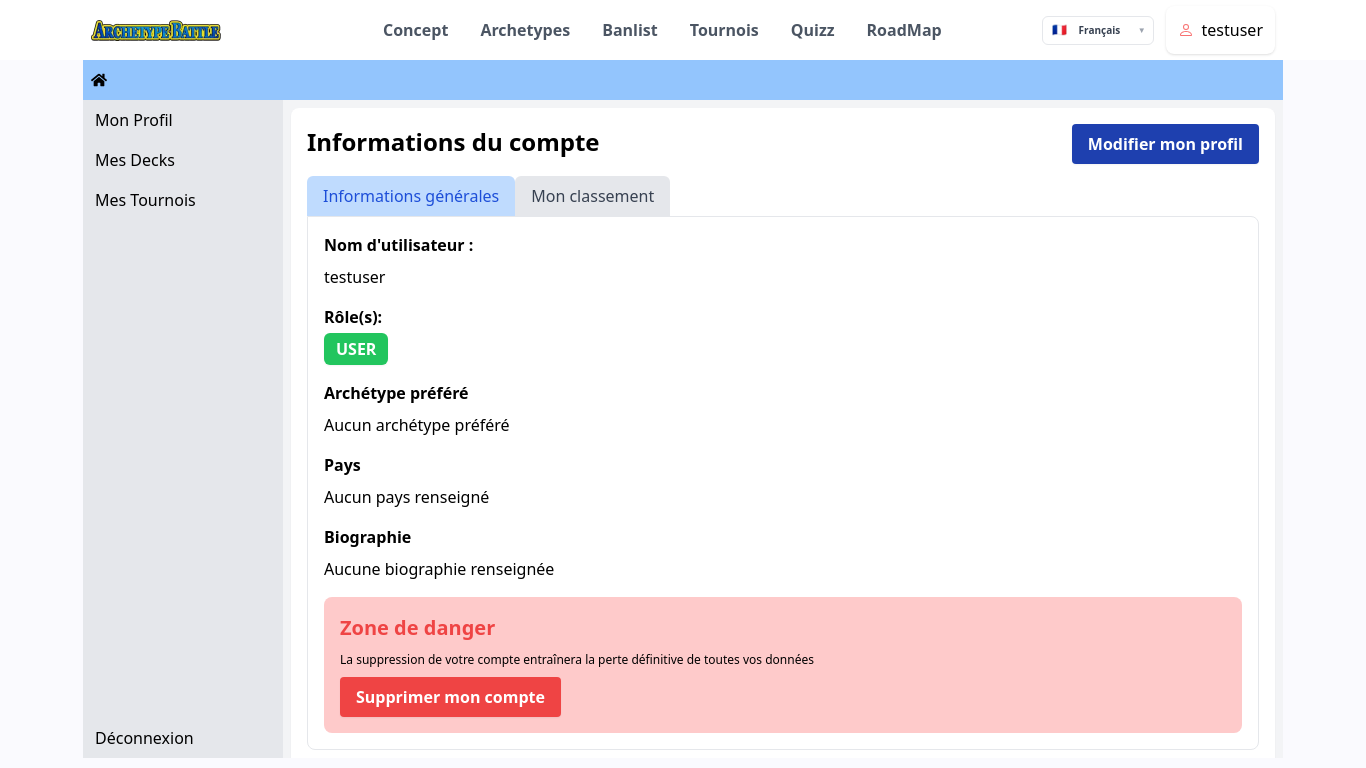
Scenario: MyProfilePage (integration) › account deletion › close the popup when clicking on 'Annuler'
Click the button "Supprimer mon compte": (450, 697) [340,677,561,717]
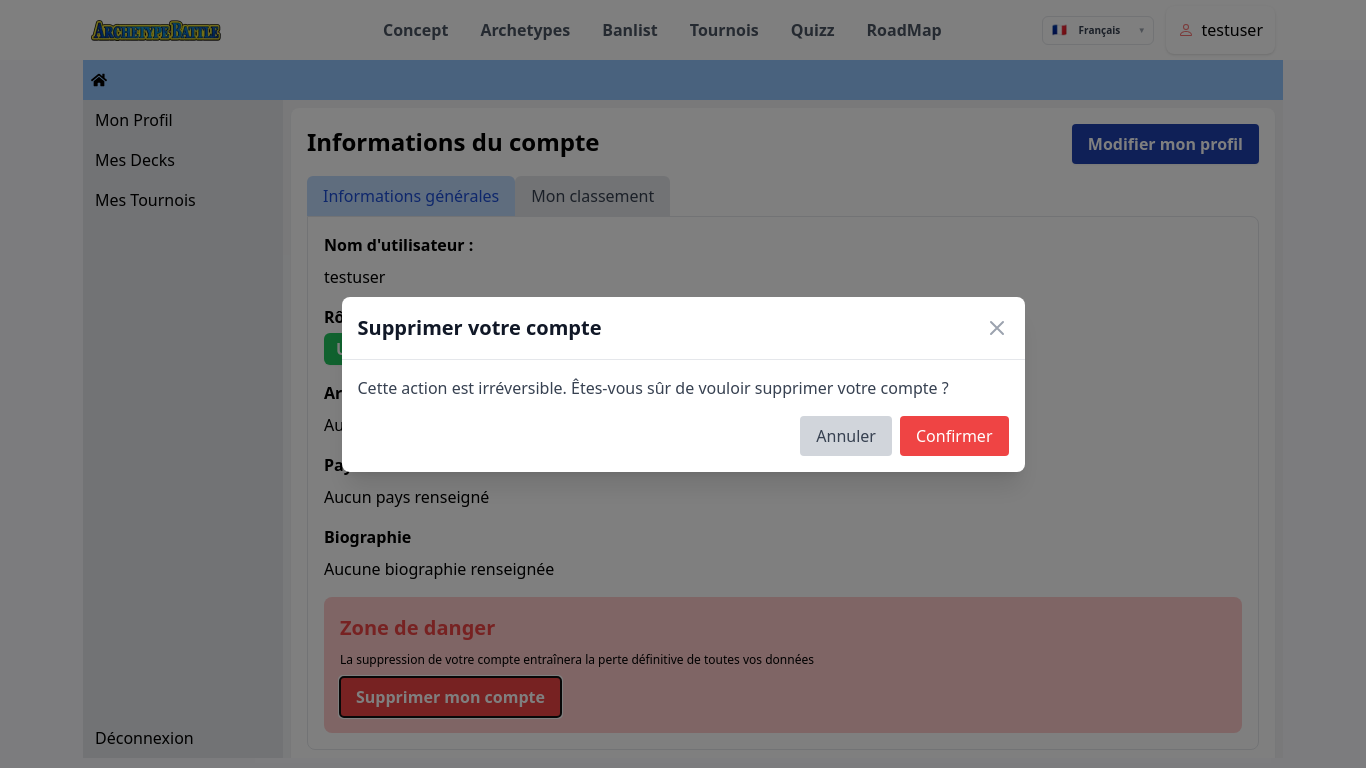
Expected: the heading "Supprimer votre compte" is shown, [358,312,602,342]
Click the button "Annuler": (846, 436) [800,416,892,456]
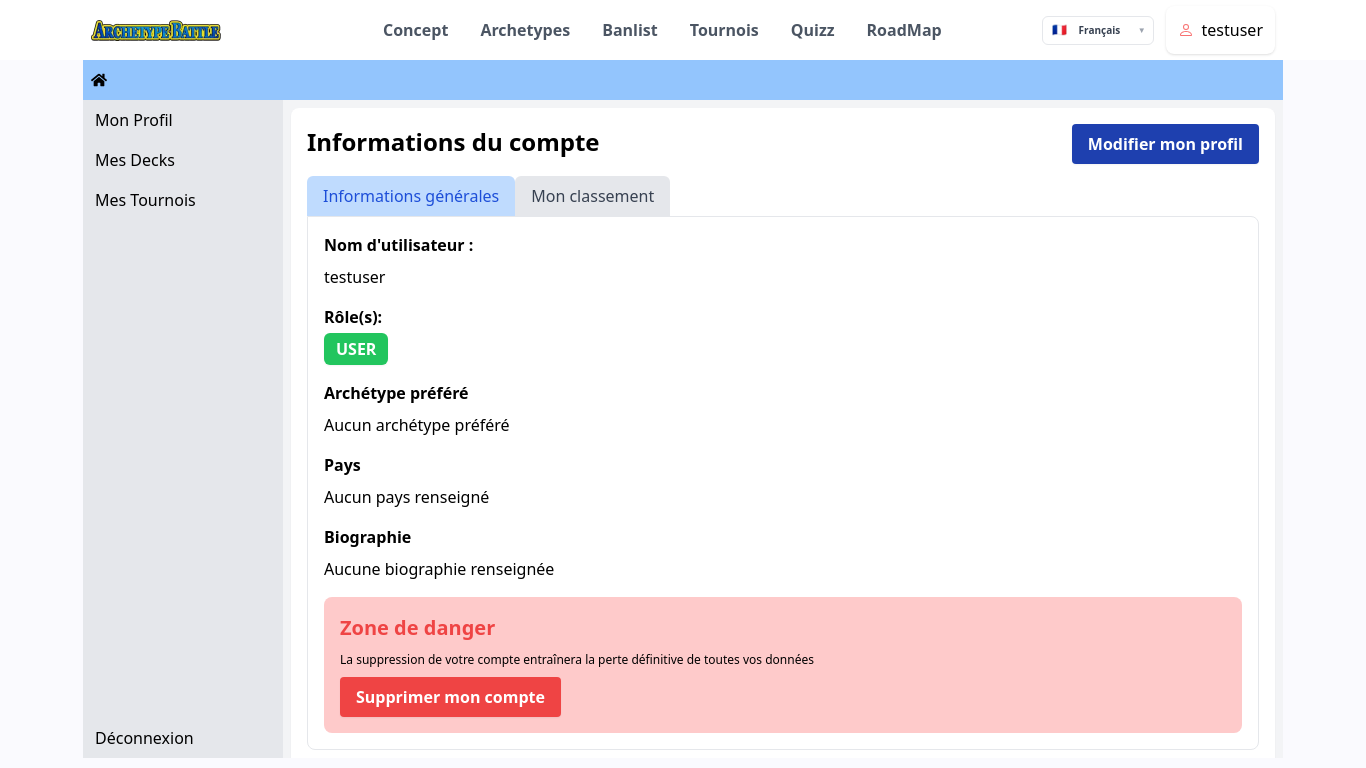
Expected: the heading "Supprimer votre compte" is gone
